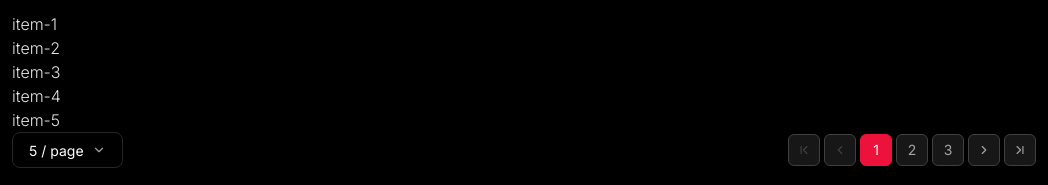
Scenario: usePagination › usage with Pagination › jumps to a numbered page button
Click the button named "Page 3" at (948, 150), box [932,134,964,166]
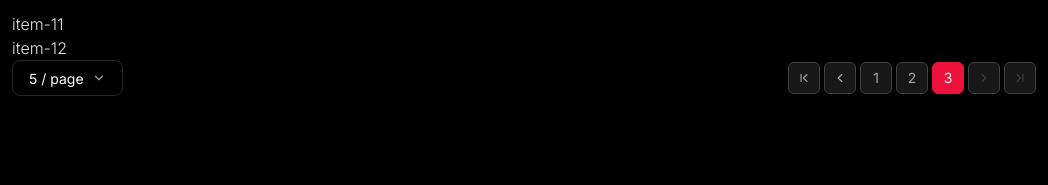
Expected: the list item "item-11" is shown, [12,14,64,34]
Expected: the list item "item-12" is shown, [12,38,67,58]
